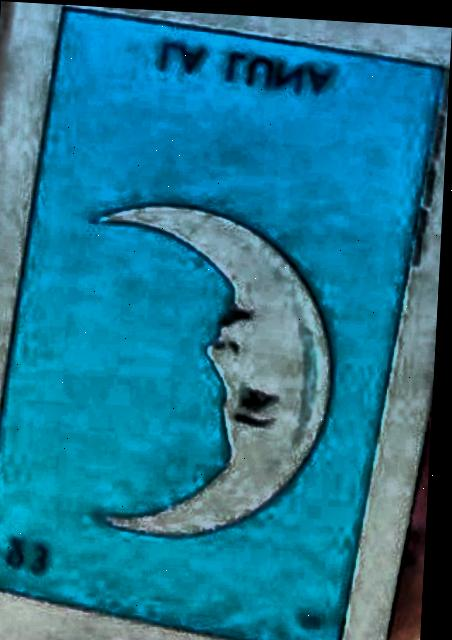La Luna: (0, 11, 443, 640)
